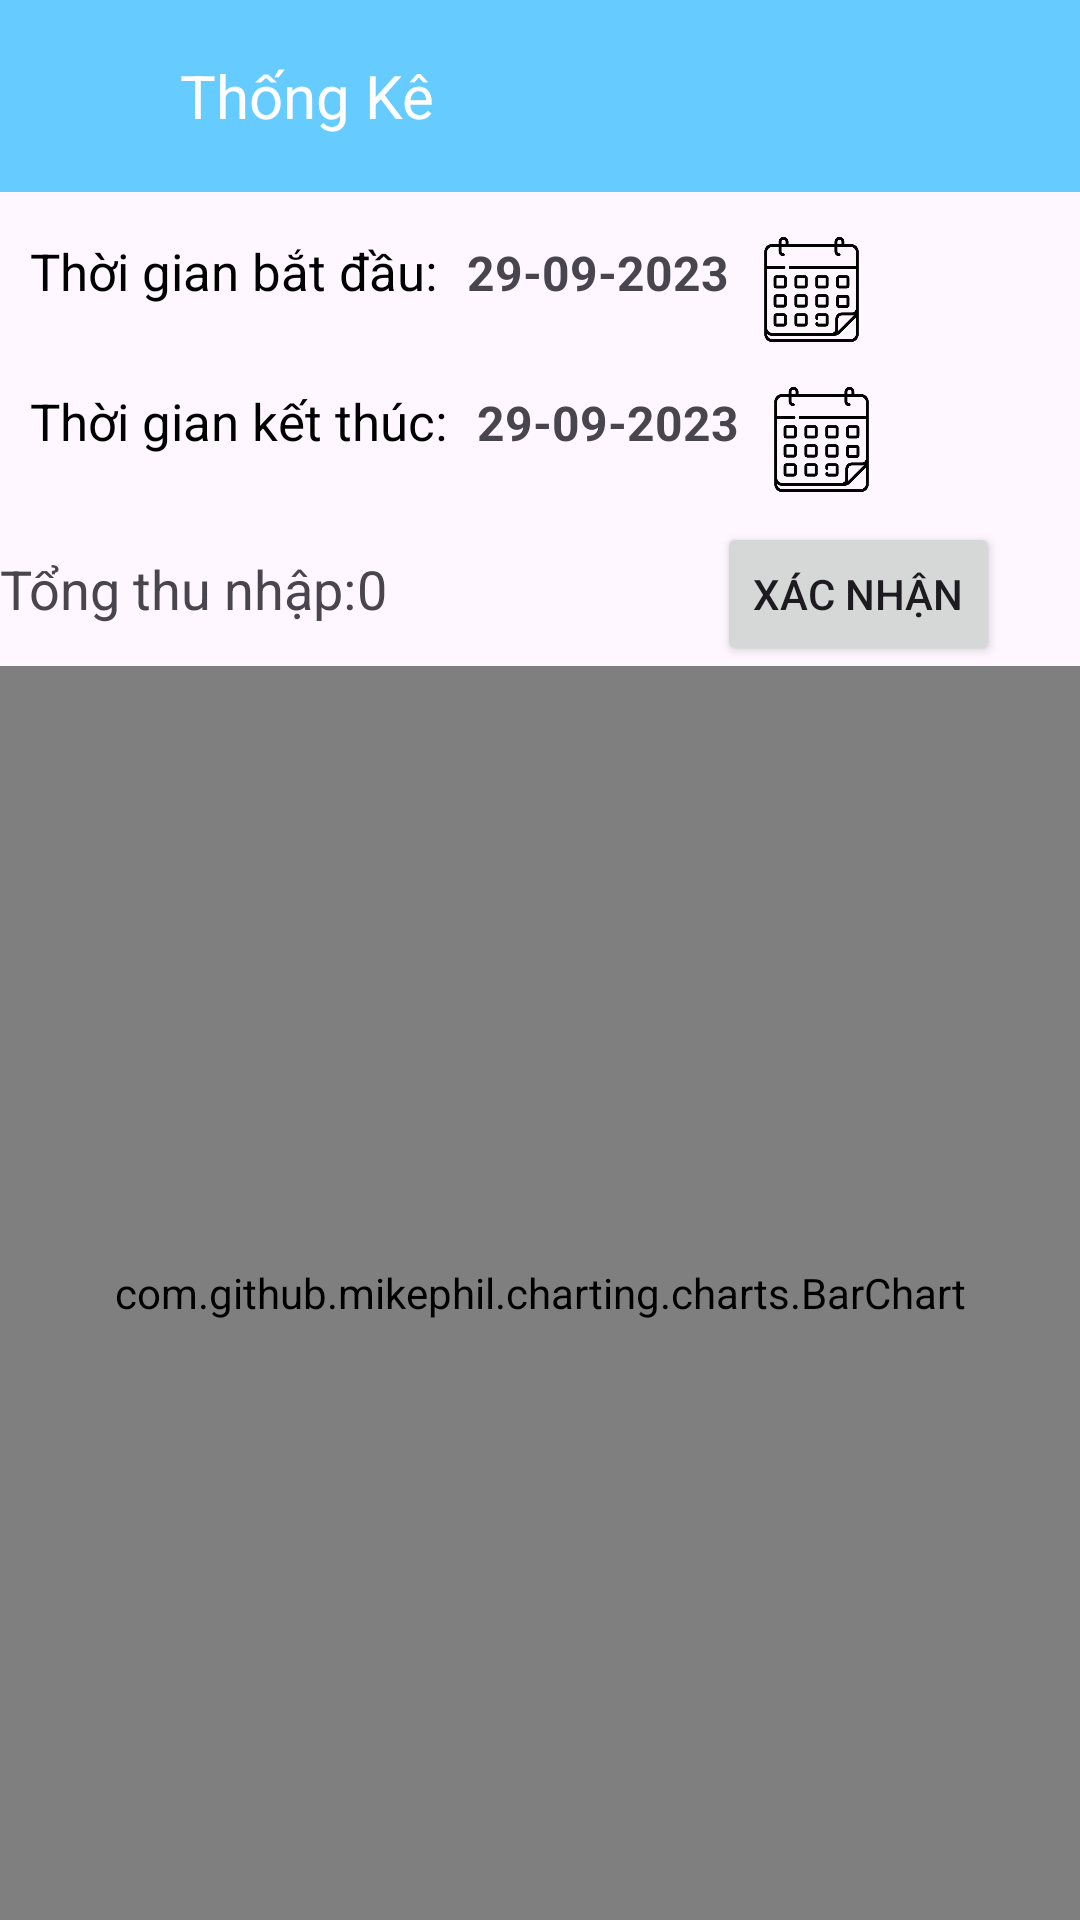

Screen size 1080×1920. Icon name, then its box in pixels as box=[x1, y1, x2, y2]:
calendar: box=[764, 237, 859, 342], box=[774, 387, 869, 492]
